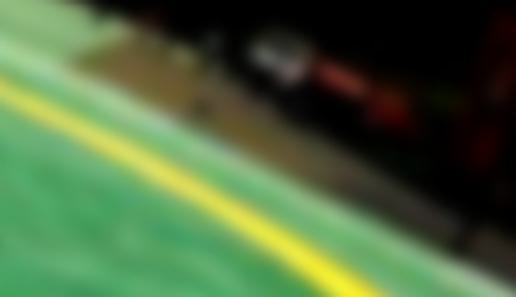Apron: (1, 70, 412, 297)
